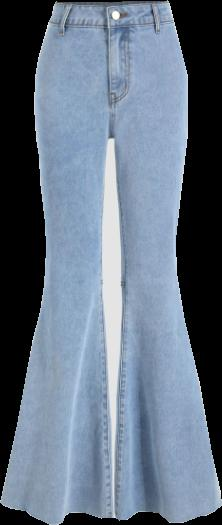Hemline: (0, 497, 115, 524), (115, 499, 221, 524)
Pantleg: (105, 1, 221, 522), (0, 2, 112, 524)
Waistline: (46, 16, 173, 28), (54, 0, 167, 10)
